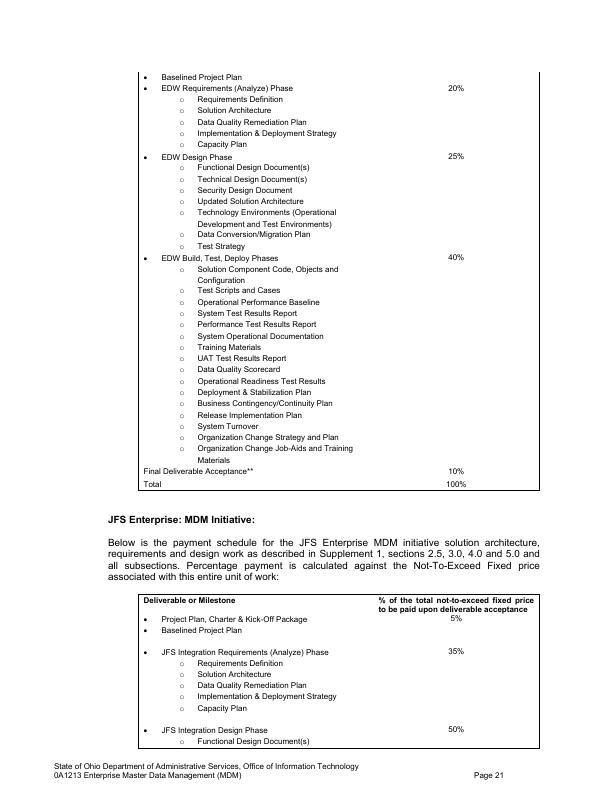table: (133, 66, 549, 500), (133, 591, 545, 754)
text: (104, 510, 547, 583), (50, 759, 366, 783), (471, 767, 511, 780)
